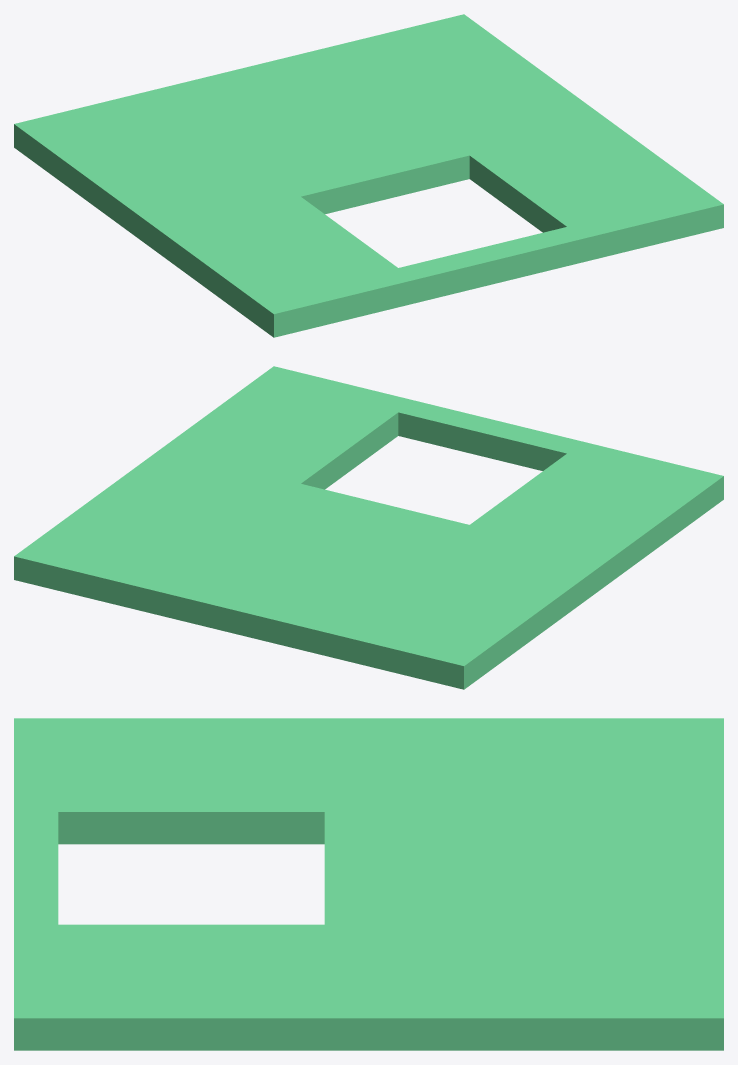
Rendered from floor_4-4_with_hole.fbx.
3 renders of one model, top to bottom at view 1: azimuth 30°, elevation 25°; view 2: azimuth 150°, elevation 25°; view 3: azimuth 270°, elevation 25°, orthographic. The views are drawn at different scales.
Visible parts, largest first — view 1: 6-10floor.001; view 2: 6-10floor.001; view 3: 6-10floor.001.
Part boxes in pixels (x1=…): 6-10floor.001: x1=14, y1=14, x2=723, y2=337; 6-10floor.001: x1=14, y1=366, x2=723, y2=689; 6-10floor.001: x1=14, y1=718, x2=723, y2=1050.
Size of the model in its own units: 400 by 20 by 400.
